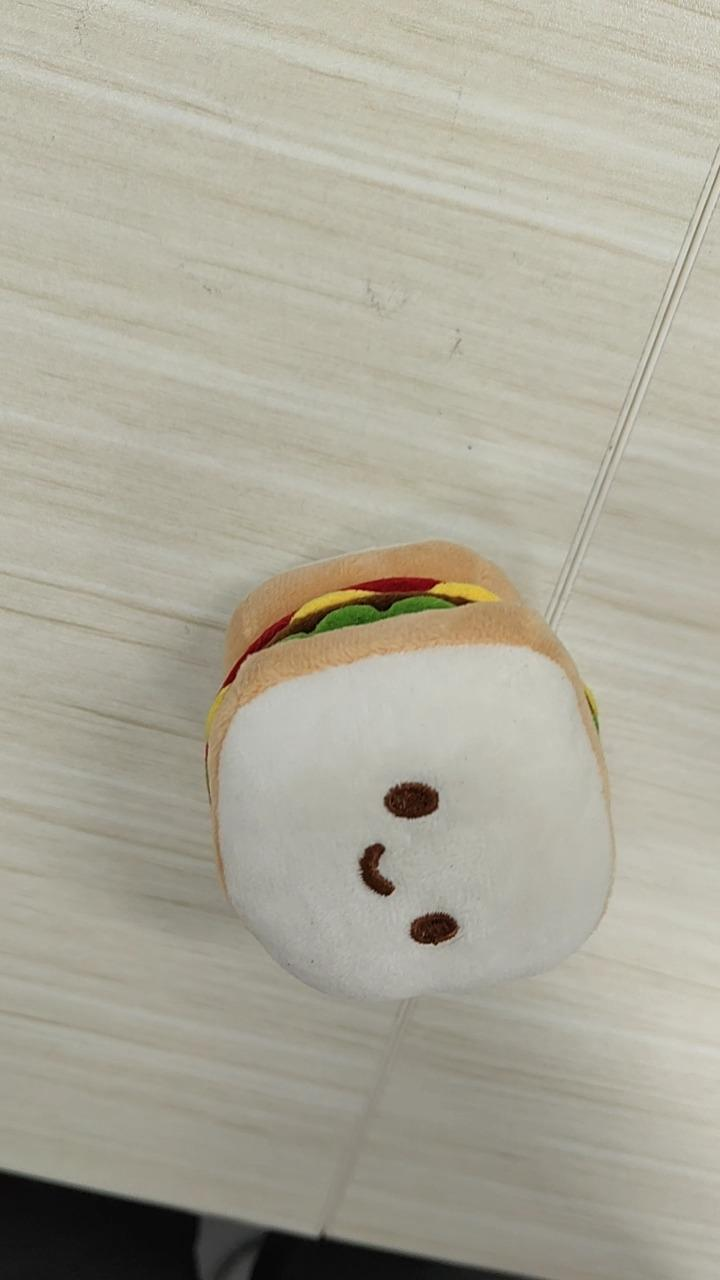objects: (202, 537, 617, 1002)
